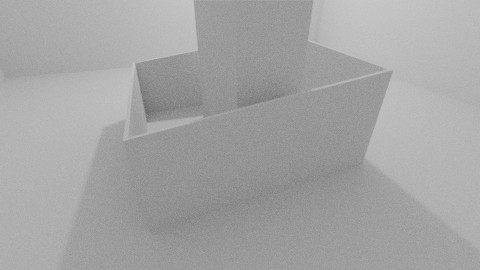cheminee: (193, 1, 314, 182)
eaf: (128, 69, 388, 228)
